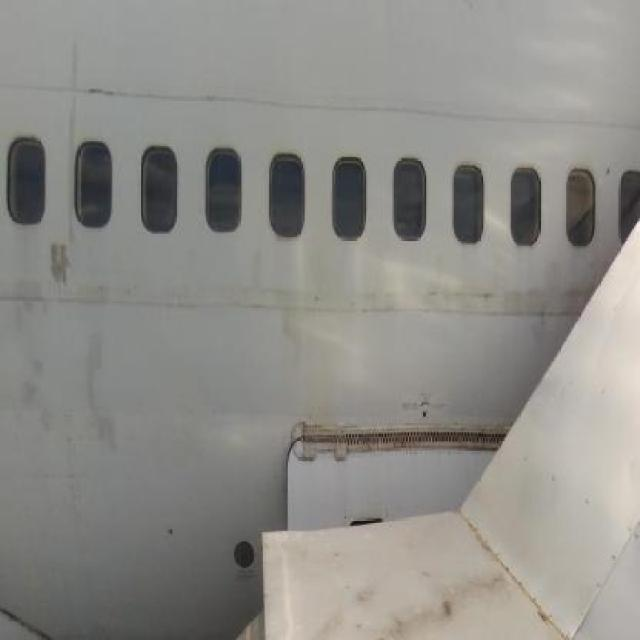Scartch: (43, 229, 91, 326), (66, 23, 79, 245)
